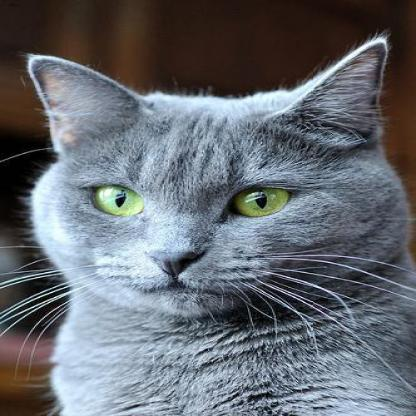cat: (26, 36, 415, 415)
